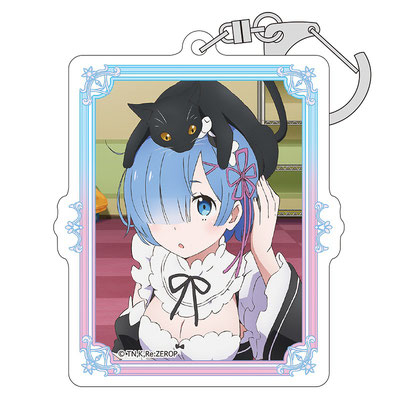rem: (119, 118, 297, 362)
